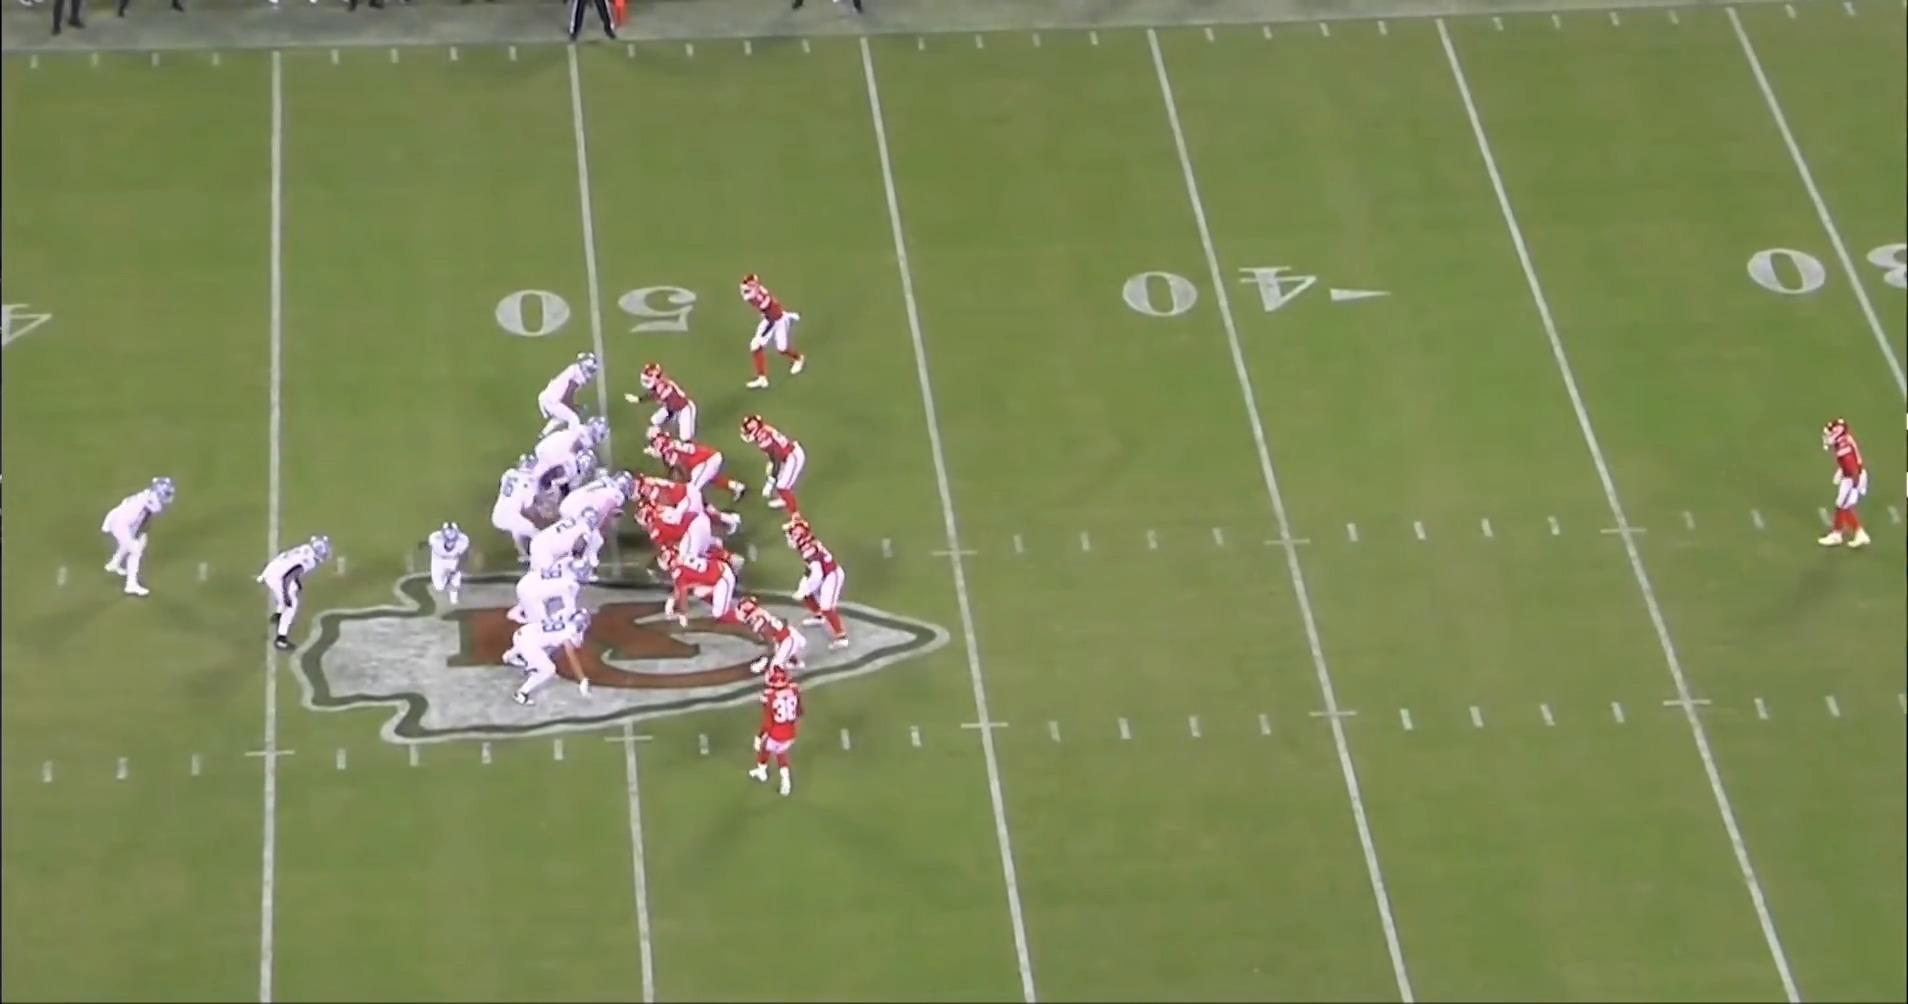defense: (781, 522, 854, 656), (737, 271, 811, 395), (1816, 416, 1881, 554), (741, 658, 804, 797), (655, 547, 753, 636), (734, 417, 805, 525), (659, 431, 758, 503), (745, 593, 810, 687), (633, 365, 702, 452), (633, 503, 713, 556), (631, 470, 708, 511)
oline: (553, 468, 645, 580), (500, 552, 592, 622), (526, 507, 604, 581), (526, 414, 607, 458), (534, 449, 596, 505)
qb: (497, 449, 563, 569)
ref: (551, 0, 620, 43)
skill: (101, 472, 184, 604), (260, 532, 346, 657), (505, 607, 598, 718), (421, 515, 480, 626), (539, 347, 608, 439)
